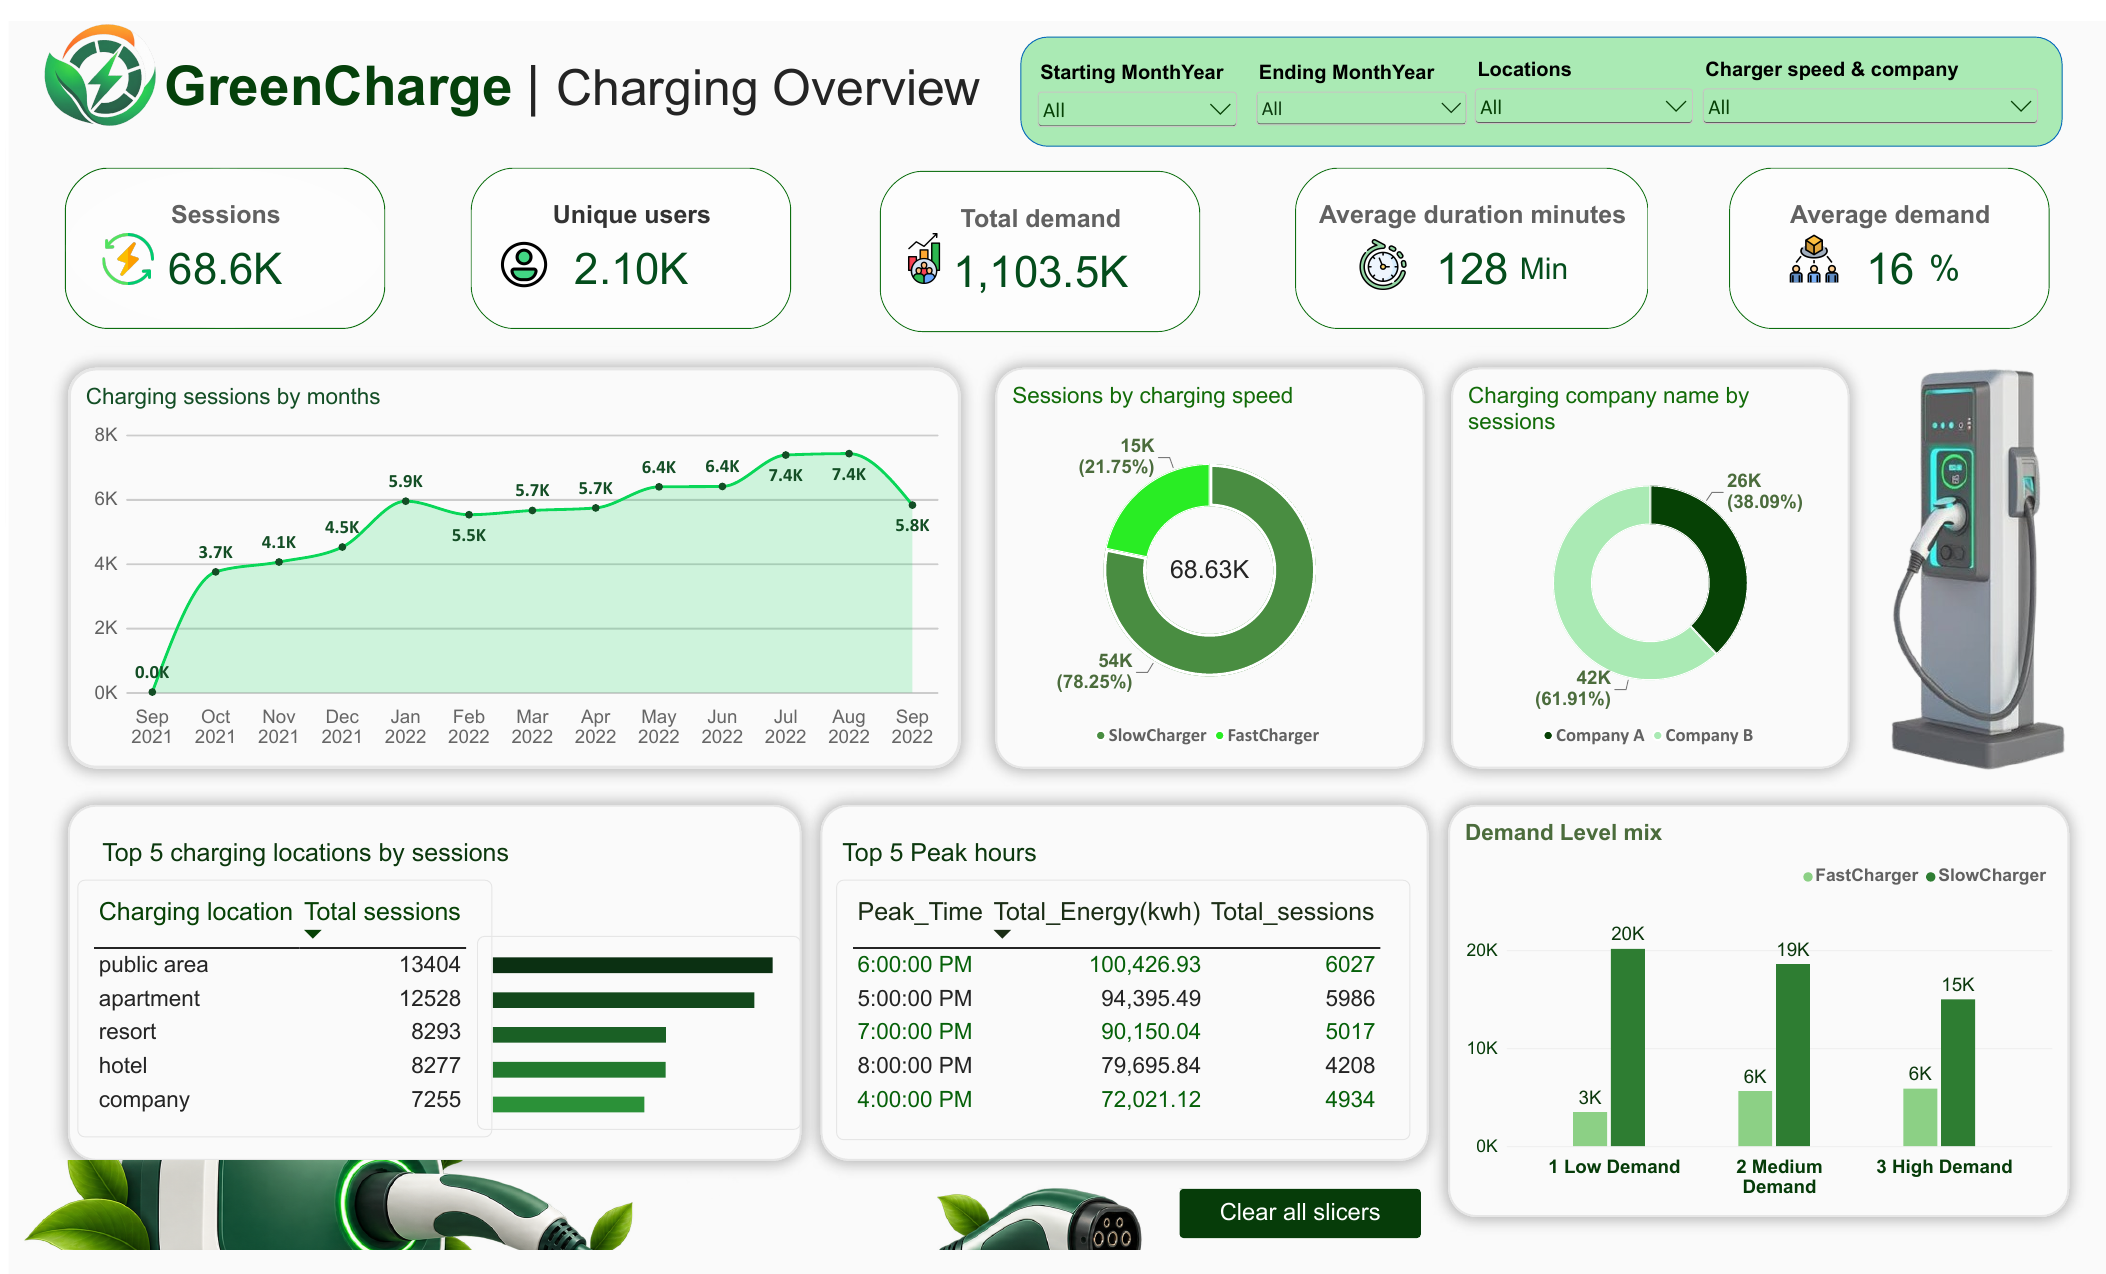

What the dashboard file says about the page in this screenshot:
{"tool":"powerbi","page":{"name":"Page 1","canvas":[2220,1310],"ordinal":0},"visuals":[{"type":"textbox","box":[165,35,892.5,80],"z":0},{"type":"cardVisual","fields":{"Data":["ev_charging_data.total_sessions"]},"box":[60,156.7,342.5,172.5],"z":1000},{"type":"cardVisual","fields":{"Data":["ev_charging_data.Average_Demand"]},"box":[1836.1,156.7,342.5,172.5],"z":2000},{"type":"cardVisual","fields":{"Data":["ev_charging_data.Average_session_Duration"]},"box":[1372.1,158.1,377.5,172.5],"z":3000},{"type":"cardVisual","fields":{"Data":["ev_charging_data.total_Demand"]},"box":[931.4,158.6,342.9,172.9],"z":4000},{"type":"cardVisual","fields":{"Data":["ev_charging_data.total_users_charged"]},"box":[494.3,157.1,342.5,172.5],"z":5000},{"type":"textbox","box":[1614.6,245.6,67.5,40],"z":6000},{"type":"textbox","box":[2051.1,244.2,52.5,45],"z":7000},{"type":"image","box":[98.3,223.3,54.5,60.9],"z":8000},{"type":"image","box":[523.3,228.6,54,60],"z":9000},{"type":"image","box":[949.3,222.1,54,60],"z":10000},{"type":"image","box":[1438.8,231.4,54,60],"z":11000},{"type":"image","box":[1901.1,222.5,54,60],"z":12000},{"type":"areaChart","title":"Charging sessions by months","fields":{"Category":["ev_charging_data.start_month"],"Y":["ev_charging_data.total_sessions"]},"box":[62.5,370,952.5,427.5],"z":13000},{"type":"donutChart","title":"Sessions by charging speed","fields":{"Category":["ev_charging_data.charger_speed_category"],"Y":["ev_charging_data.total_sessions"]},"box":[1052.5,370,457.5,427.5],"z":14000},{"type":"clusteredColumnChart","title":"Demand Level mix","fields":{"Category":["ev_charging_data.demand_level"],"Series":["ev_charging_data.charger_speed_category"],"Y":["ev_charging_data.total_sessions"]},"box":[1537.5,837.5,662.5,440],"z":15000},{"type":"shape","title":"Sessions by locations","box":[62.9,835.7,782.9,380],"z":16000},{"type":"barChart","title":"Sessions by location","fields":{"Category":["ev_charging_data.charging_location"],"Y":["ev_charging_data.total_sessions"]},"box":[499.6,975,345.7,207.1],"z":17000},{"type":"tableEx","title":"Sessions by location","fields":{"Values":["ev_charging_data.charging_location","ev_charging_data.total_sessions"]},"box":[72.5,917.5,442.5,275],"z":18000},{"type":"pieChart","title":"Charging company name by sessions","fields":{"Category":["ev_charging_data.charger_company_name"],"Y":["ev_charging_data.total_sessions"]},"box":[1540,370,425,427.5],"z":19000},{"type":"textbox","box":[100,872.5,442.5,32.5],"z":20000},{"type":"image","box":[1987.5,330,230,510],"z":21000},{"type":"image","box":[30,0,135,117.5],"z":22000},{"type":"shape","box":[1080,15,1112.5,117.5],"z":23000},{"type":"slicer","fields":{"Values":["ev_charging_data.start_MonthYear"]},"box":[1092.5,42.5,222.5,202.5],"z":24000},{"type":"slicer","fields":{"Values":["ev_charging_data.end_monthyear"]},"box":[1326,44,235,210],"z":25000},{"type":"slicer","fields":{"Values":["ev_charging_data.charger_speed_category","ev_charging_data.charger_company_name"]},"box":[1802.5,40,367.5,202.5],"z":26000},{"type":"slicer","fields":{"Values":["ev_charging_data.charging_location"]},"box":[1560,40,242.5,202.5],"z":27000},{"type":"actionButton","box":[1250,1247.5,257.5,52.5],"z":28000},{"type":"shape","title":"Sessions by locations","box":[865.7,835.7,648.6,380],"z":29000},{"type":"tableEx","fields":{"Values":["ev_charging_data.start_hour","ev_charging_data.Total_Energy_kWh","ev_charging_data.total_sessions"]},"box":[882.5,917.5,612.5,277.5],"z":30000},{"type":"textbox","box":[890,872.9,230,32.9],"z":31000},{"type":"image","box":[0,1215,1225,95],"z":32000}]}

Visuals, with their boxes in screenshot pixels (x1, y1, x2, y2), scaled from the page's 2220x1310 canvas onto the 2106x1274 screenshot:
textbox: 157 34 1003 112
cardVisual - ev_charging_data.total_sessions: 57 152 382 320
cardVisual - ev_charging_data.Average_Demand: 1742 152 2067 320
cardVisual - ev_charging_data.Average_session_Duration: 1302 154 1660 322
cardVisual - ev_charging_data.total_Demand: 884 154 1209 322
cardVisual - ev_charging_data.total_users_charged: 469 153 794 321
textbox: 1532 239 1596 278
textbox: 1946 237 1996 281
image: 93 217 145 276
image: 496 222 548 281
image: 901 216 952 274
image: 1365 225 1416 283
image: 1803 216 1855 275
"Charging sessions by months" areaChart: 59 360 963 776
"Sessions by charging speed" donutChart: 998 360 1432 776
"Demand Level mix" clusteredColumnChart: 1459 814 2087 1242
"Sessions by locations" shape: 60 813 802 1182
"Sessions by location" barChart: 474 948 802 1150
"Sessions by location" tableEx: 69 892 489 1160
"Charging company name by sessions" pieChart: 1461 360 1864 776
textbox: 95 849 515 880
image: 1885 321 2104 817
image: 28 0 157 114
shape: 1025 15 2080 129
slicer - ev_charging_data.start_MonthYear: 1036 41 1247 238
slicer - ev_charging_data.end_monthyear: 1258 43 1481 247
slicer - ev_charging_data.charger_speed_category x ev_charging_data.charger_company_name: 1710 39 2059 236
slicer - ev_charging_data.charging_location: 1480 39 1710 236
actionButton: 1186 1213 1430 1264
"Sessions by locations" shape: 821 813 1437 1182
tableEx - ev_charging_data.start_hour x ev_charging_data.Total_Energy_kWh: 837 892 1418 1162
textbox: 844 849 1062 881
image: 0 1182 1162 1273
